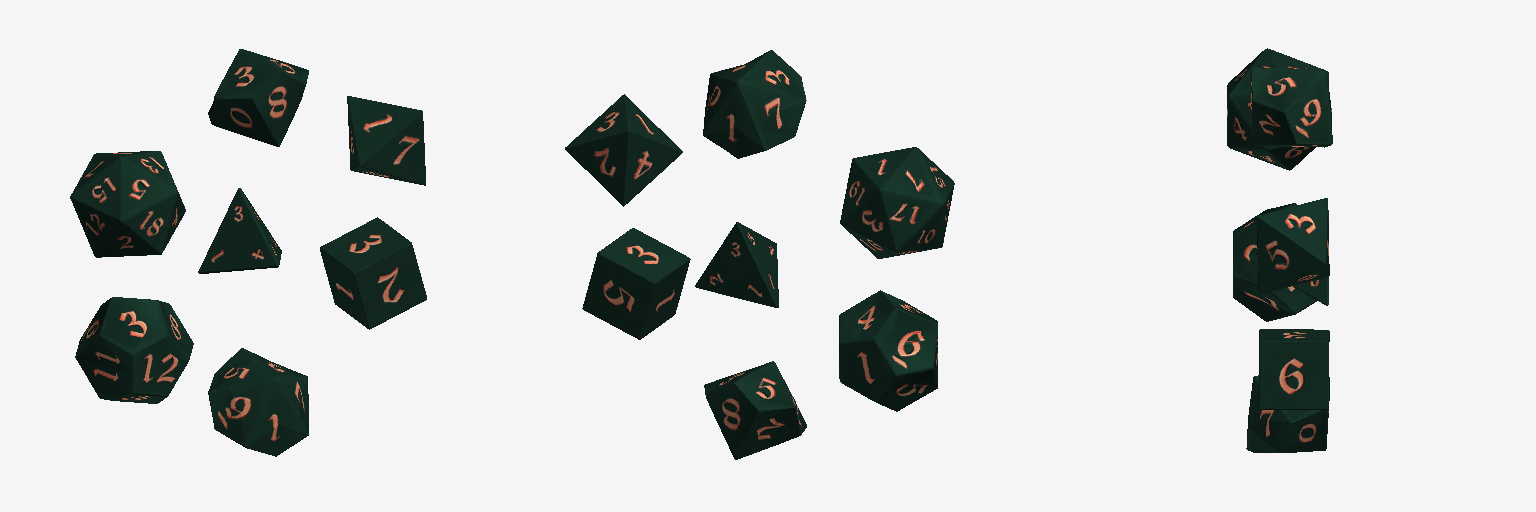
3 renders of one model, left to right at view 1: azimuth 30°, elevation 25°; view 2: azimuth 150°, elevation 25°; view 3: azimuth 270°, elevation 25°, orthographic.
Parts seen in each view (by area): view 1: Object.1; view 2: Object.1; view 3: Object.1.
Boxes of the visible parts, <box> form: Object.1: <box>70,49,426,456</box>; Object.1: <box>565,50,954,459</box>; Object.1: <box>1227,48,1332,452</box>.
Bounding box in the file's own units: 33180 × 33939 × 8378.
Materials: 1 (1 with a texture image).